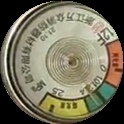green: (85, 83, 118, 115)
needle: (82, 82, 101, 109)
red: (105, 39, 124, 90)
yellow: (37, 93, 91, 118)
